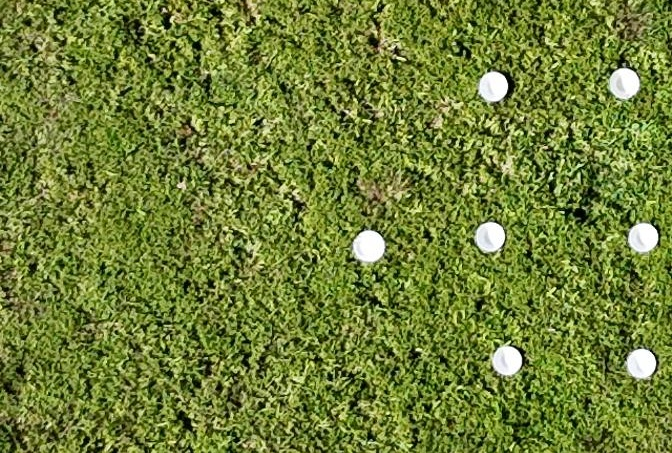bowl: (349, 229, 386, 265), (606, 65, 642, 102), (472, 221, 506, 254), (475, 71, 510, 103), (624, 346, 656, 381), (490, 345, 523, 378), (625, 221, 658, 254)
